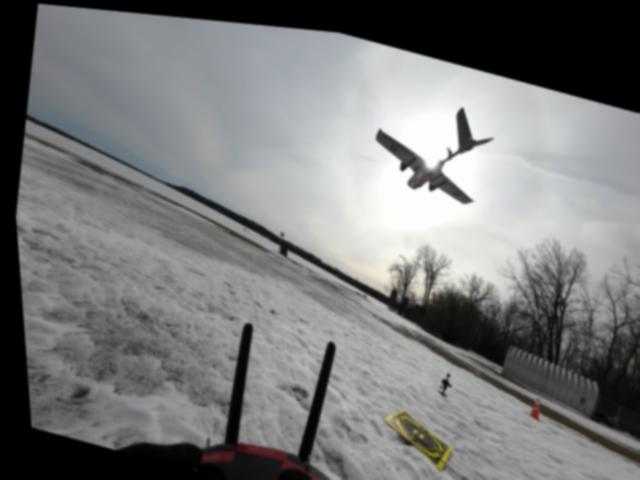plane: (363, 75, 499, 200)
